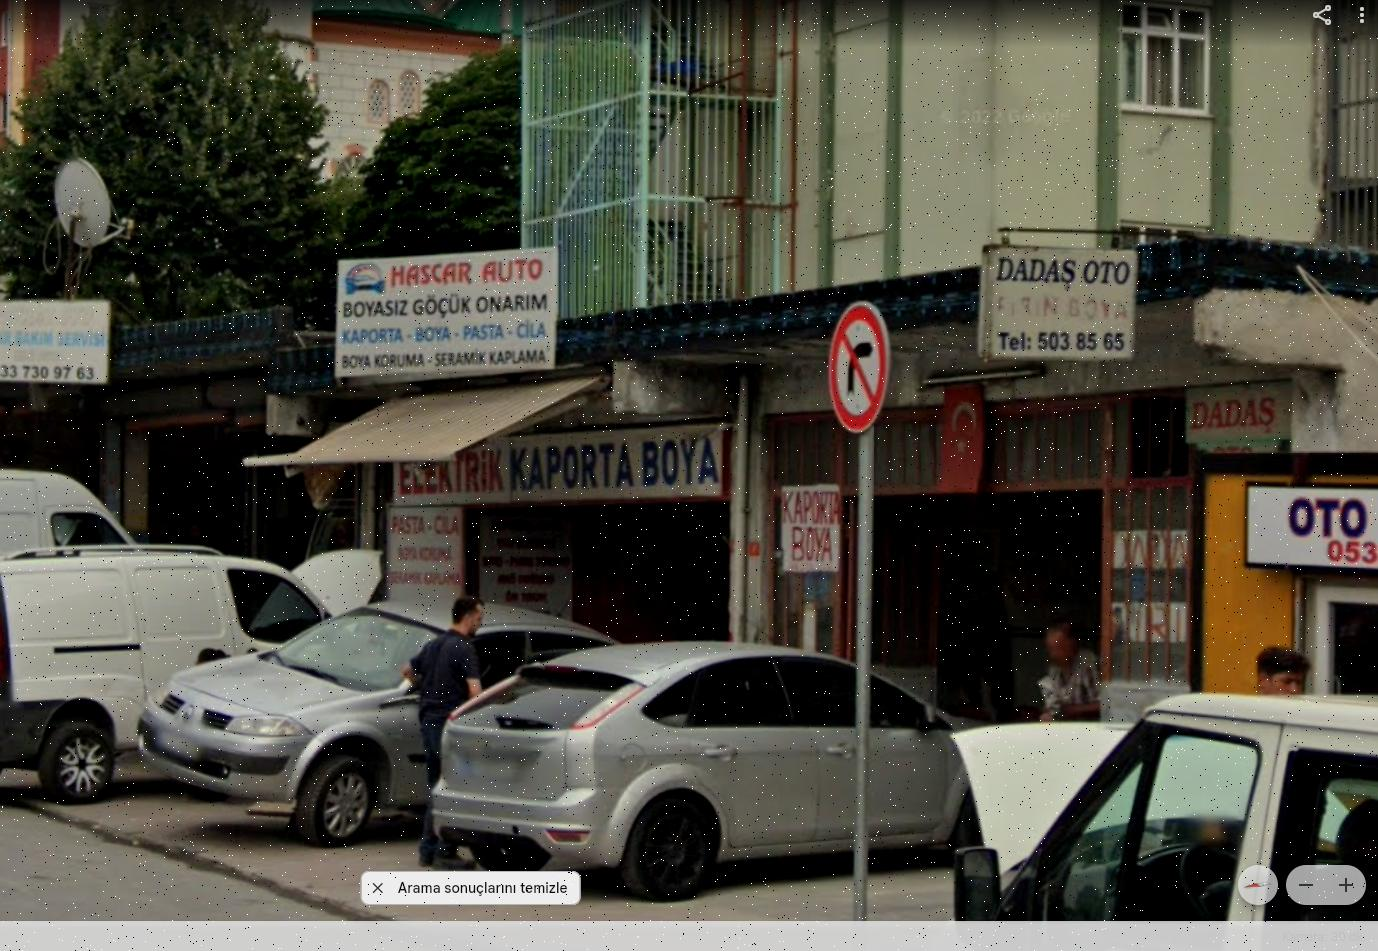rightturnsareforbidden: (827, 303, 892, 430)
